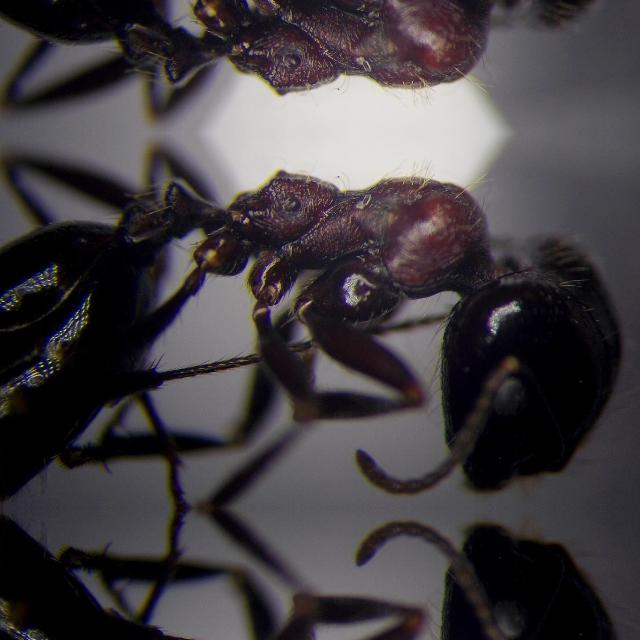Messor: (0, 134, 640, 506), (0, 508, 640, 640), (0, 0, 640, 130)
